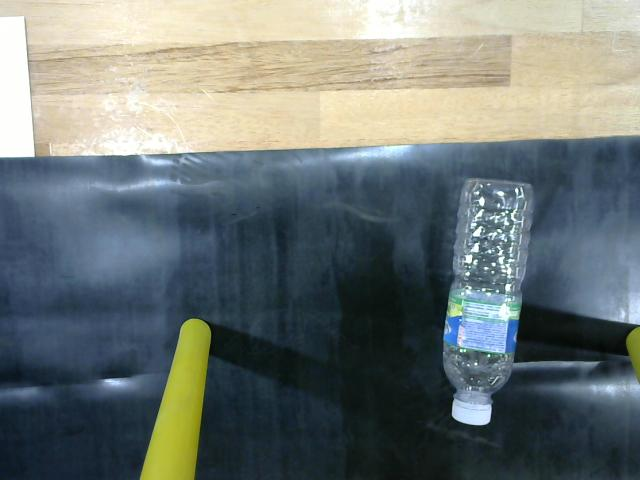bottle: (433, 171, 541, 433)
